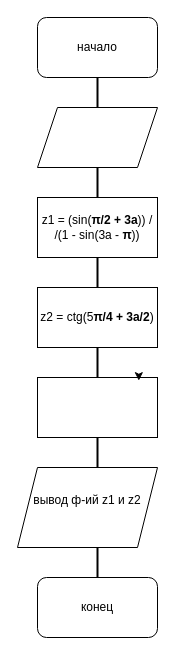
Some shapes in this 175 by 655 pixel diagram are drawn without their labels. Each missing label, with the centre of its shape:
ввод а: point 97,137
округление z1 и z2 до тысячных в большую сторону: point 97,407
